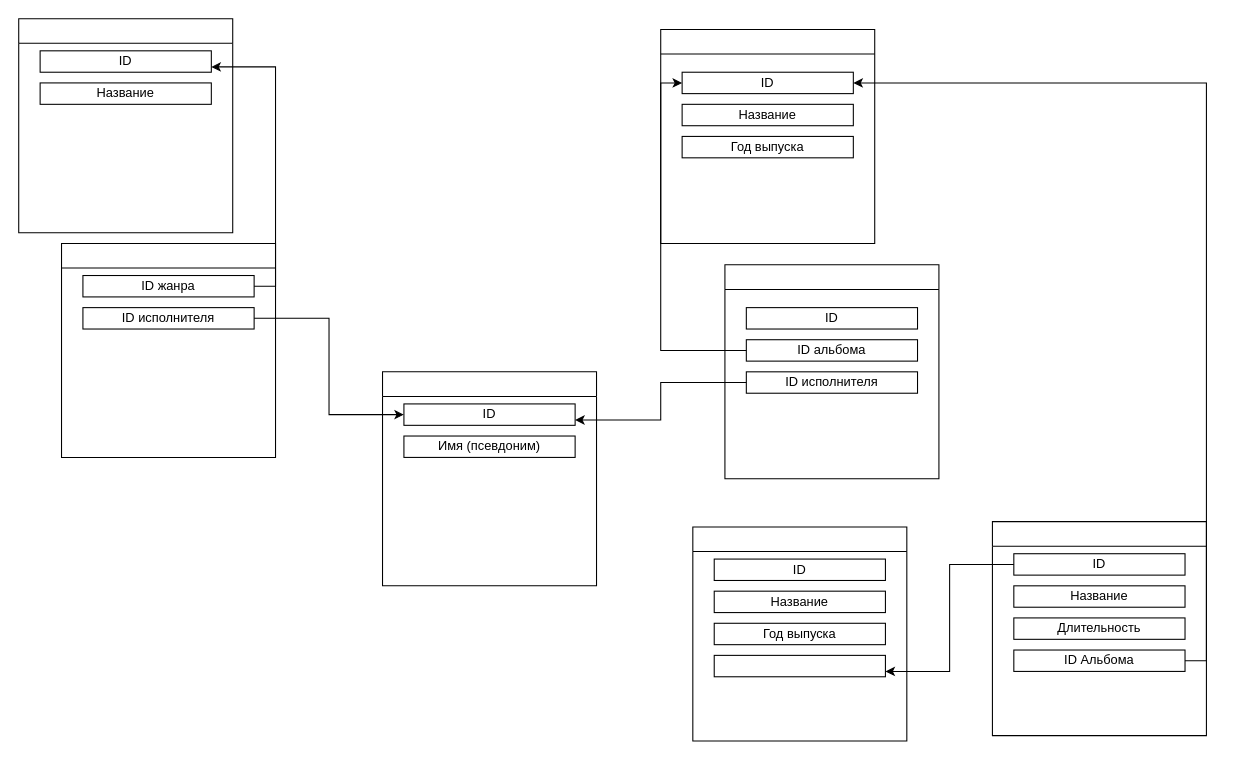
Some shapes in this 1234 by 760 pixel diagram are drawn without their labels. The shapes that lost their labels are listed below. From the top down, each one's box as (x1, y1, x2, y2) in pixels, then its label:
(18, 18, 233, 233): Музыкальный жанр
(660, 28, 875, 243): Альбом
(60, 242, 276, 457): Исполнения в жанрах
(724, 264, 939, 479): Выпуск альбомов
(381, 371, 597, 586): Исполнитель
(692, 526, 907, 741): Сборник
(991, 521, 1206, 736): Треки
(713, 654, 885, 677): ID трека
